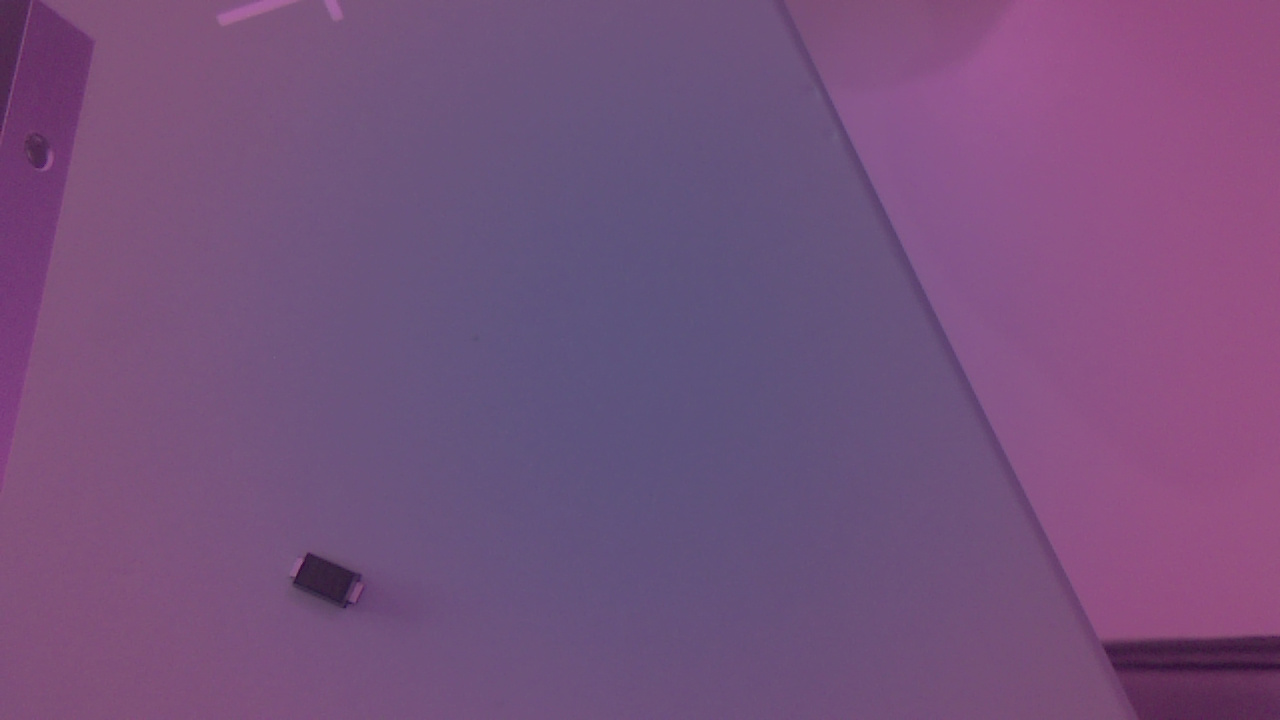Diode: (291, 544, 375, 618)
